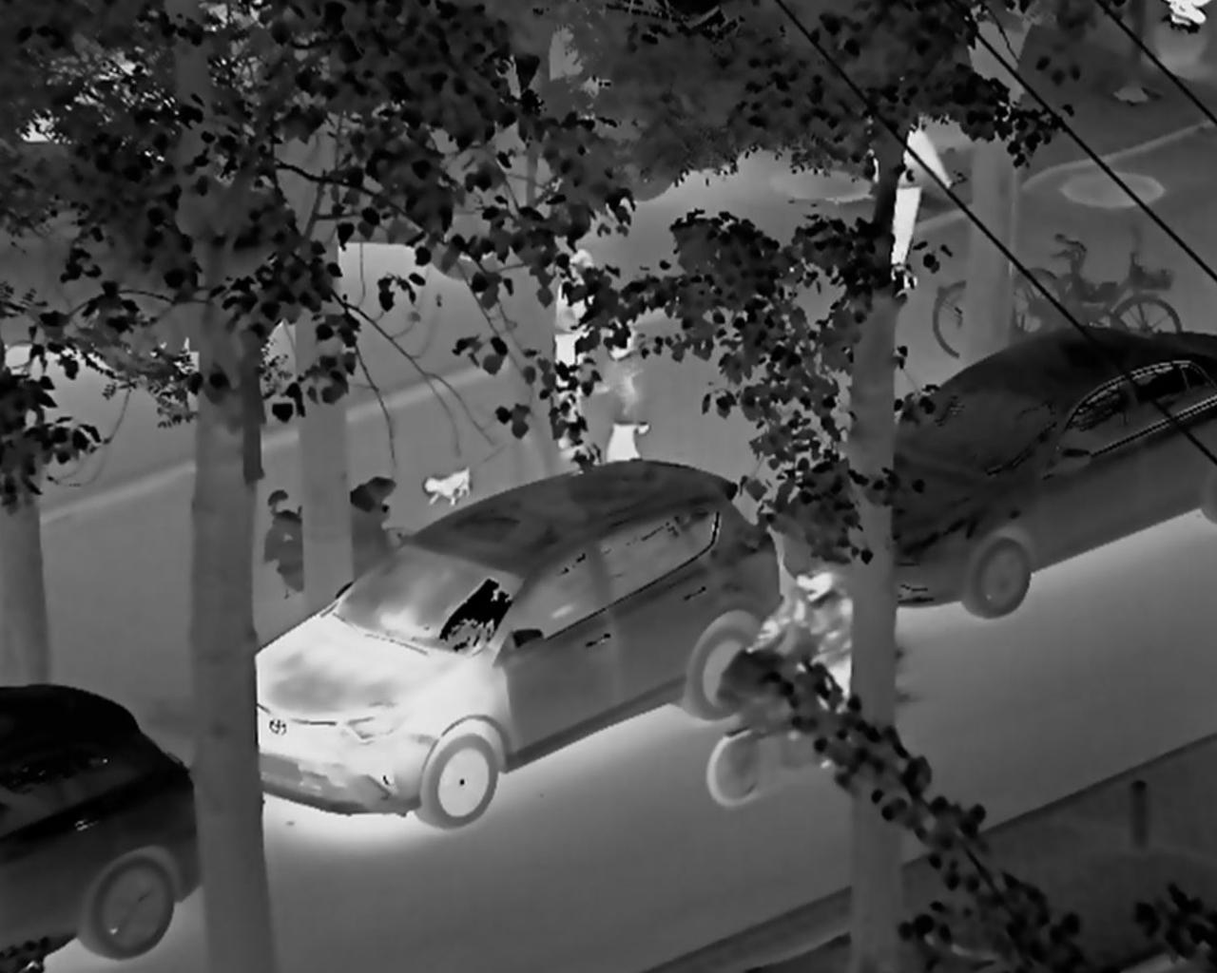person: (711, 553, 880, 802), (528, 251, 616, 432), (595, 323, 661, 472)
